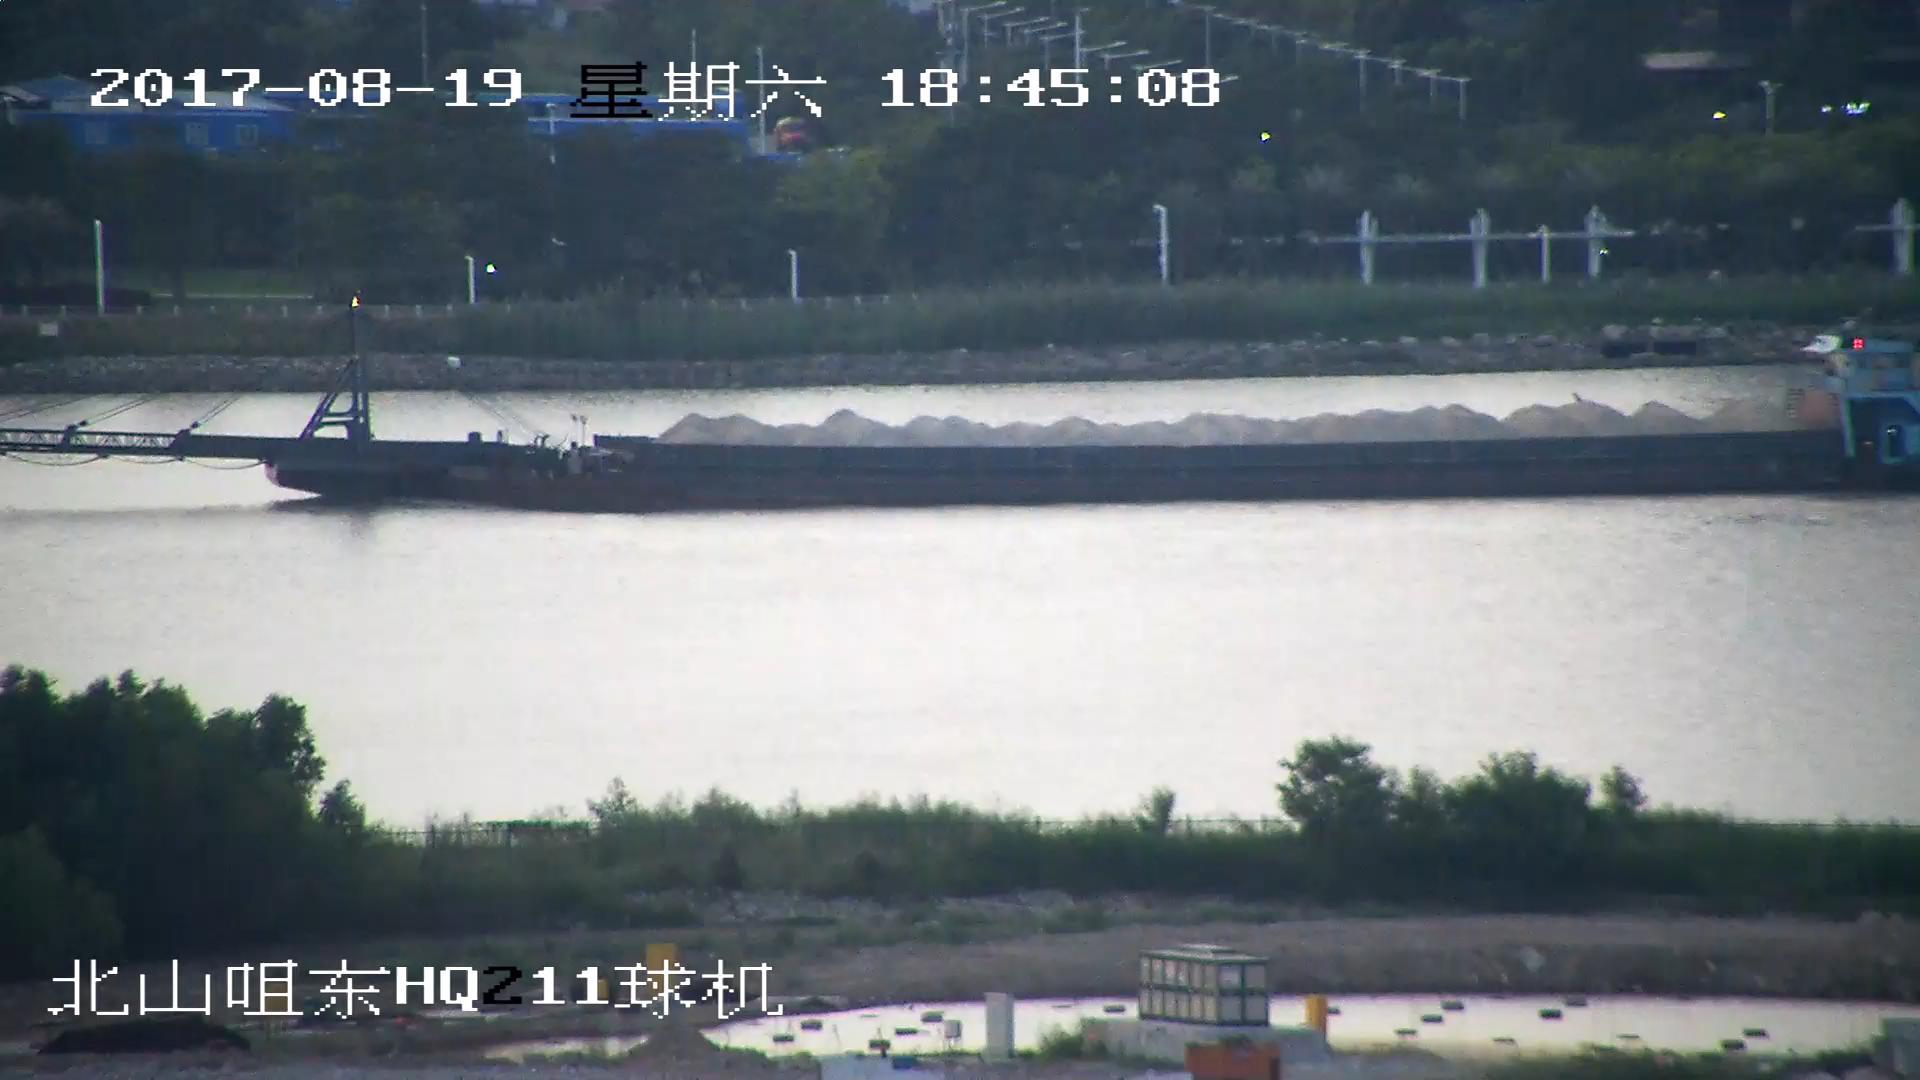Ship: (3, 295, 1920, 520)
